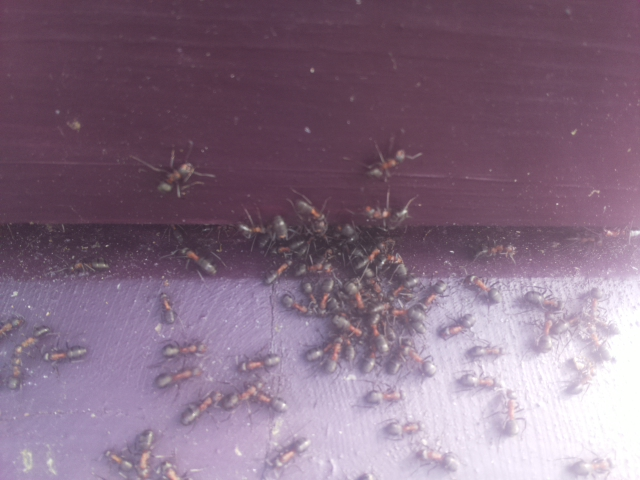ant: (172, 379, 234, 435), (260, 426, 320, 480), (164, 232, 224, 283), (222, 376, 294, 418), (358, 138, 413, 186), (100, 443, 170, 480), (487, 388, 533, 441), (289, 190, 335, 242), (151, 155, 195, 201), (151, 360, 210, 393), (408, 444, 467, 476), (309, 331, 351, 374), (397, 341, 442, 379), (274, 288, 325, 321), (0, 346, 31, 400), (559, 354, 596, 397), (229, 349, 286, 375), (43, 338, 92, 368), (559, 454, 615, 480), (436, 310, 481, 342), (462, 273, 505, 306), (162, 336, 213, 363), (327, 309, 368, 341), (259, 257, 297, 289), (377, 416, 424, 440), (234, 217, 271, 246), (421, 277, 450, 313), (530, 317, 557, 352), (455, 370, 496, 392), (0, 312, 30, 342), (343, 275, 368, 311), (157, 289, 178, 331), (353, 244, 381, 274), (366, 386, 406, 407), (372, 318, 392, 359), (464, 342, 505, 359), (529, 292, 564, 311)
